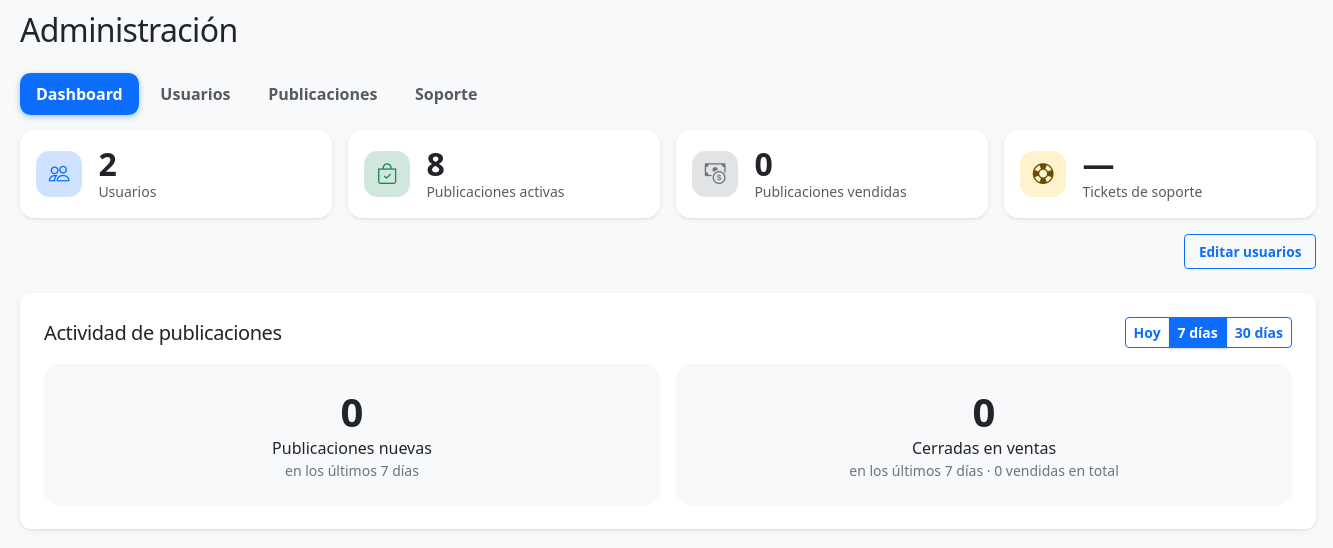
Scenario: AdminPage (modo simulado) › el atajo del dashboard lleva a la pestaña Usuarios para editar
The width and height of the screenshot is (1333, 548).
Click the button "Editar usuarios".
click(1250, 252)  # box [1184,234,1316,269]
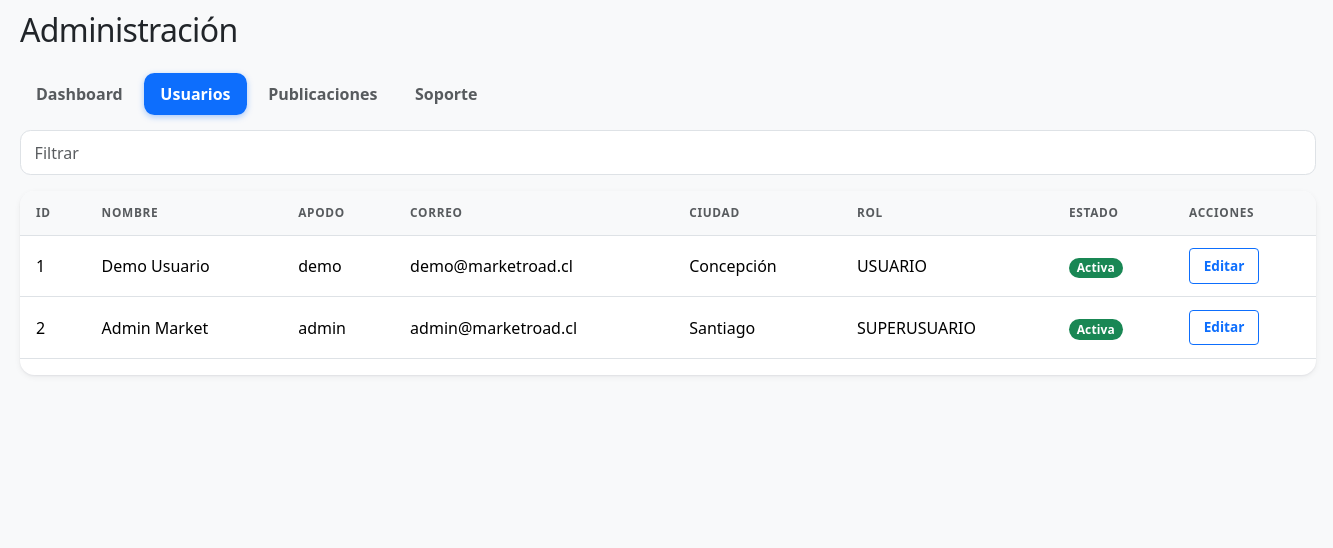
Now the button with aria-label "Editar a demo" is shown, box [1189,248,1259,284]
